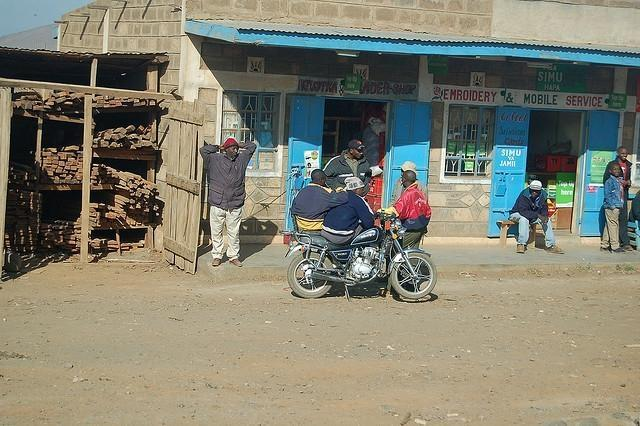motorcycle: (280, 211, 436, 303)
